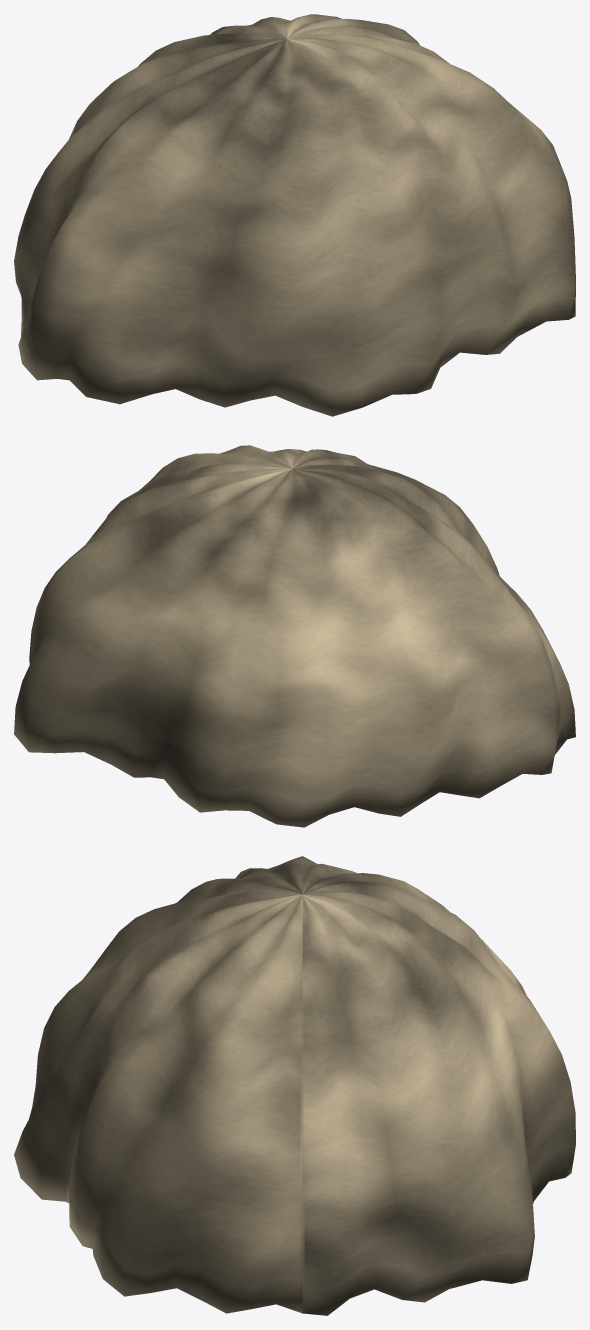
File: coral_boulder_c.glb
The picture shows the model from 3 angles, top to bottom: view 1: azimuth 30°, elevation 25°; view 2: azimuth 150°, elevation 25°; view 3: azimuth 270°, elevation 25°; orthographic projection. The views are drawn at different scales.
Parts seen in each view (by area): view 1: world; view 2: world; view 3: world.
Part boxes in pixels (<box>): world: <box>14,14,575,416</box>; world: <box>14,445,575,827</box>; world: <box>14,856,575,1315</box>.
Size of the model in its own units: 1.36 by 0.67 by 1.17.
1 material, 1 textured.
